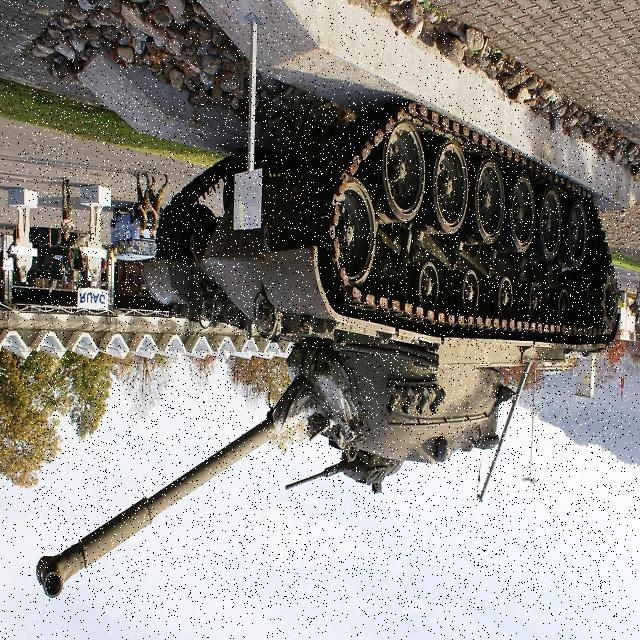MIL_MBT: (33, 96, 620, 609)
